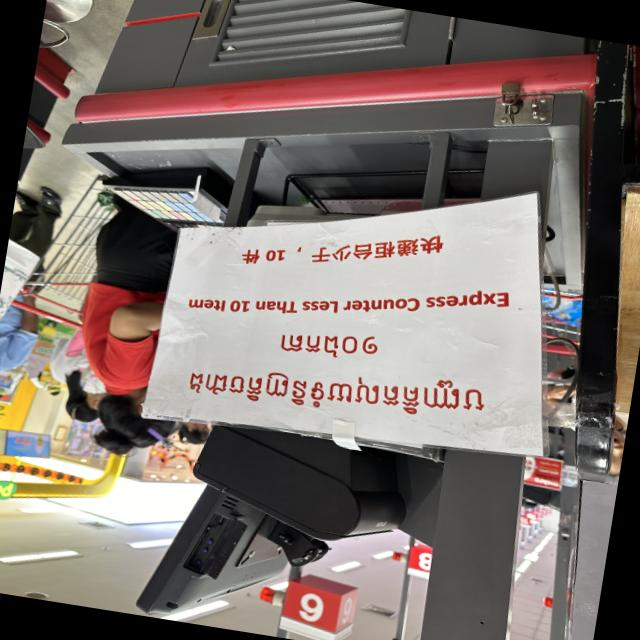893: (168, 364, 504, 428)
Yolov11kh: (273, 327, 399, 366)
